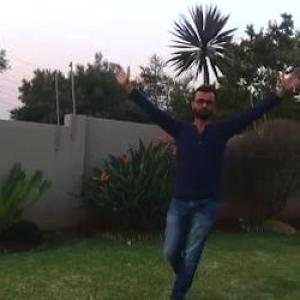takeoff: (114, 68, 299, 299)
